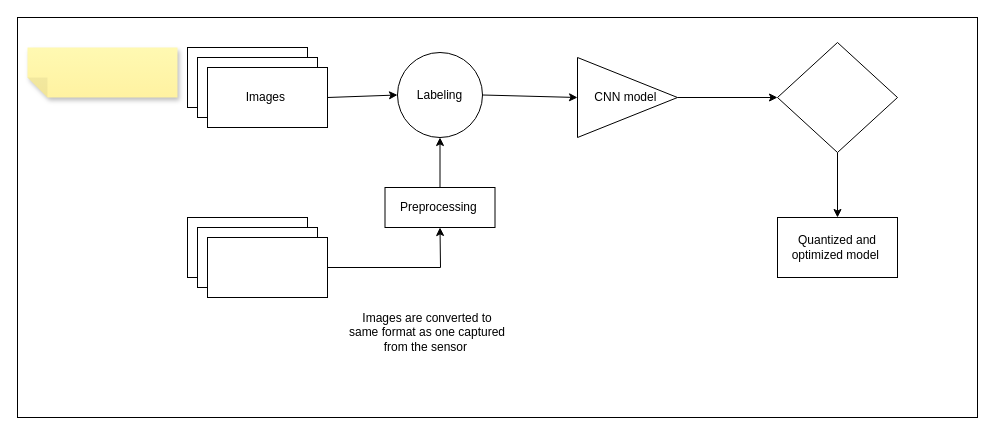
Some shapes in this 995 by 435 pixel diagram are drawn without their labels. Each missing label, with the centre of its shape:
"Data collected using camera module" belongs at pixel 103 73.
"Images from external sources" belongs at pixel 267 267.
"Tflite conversion" belongs at pixel 837 97.
